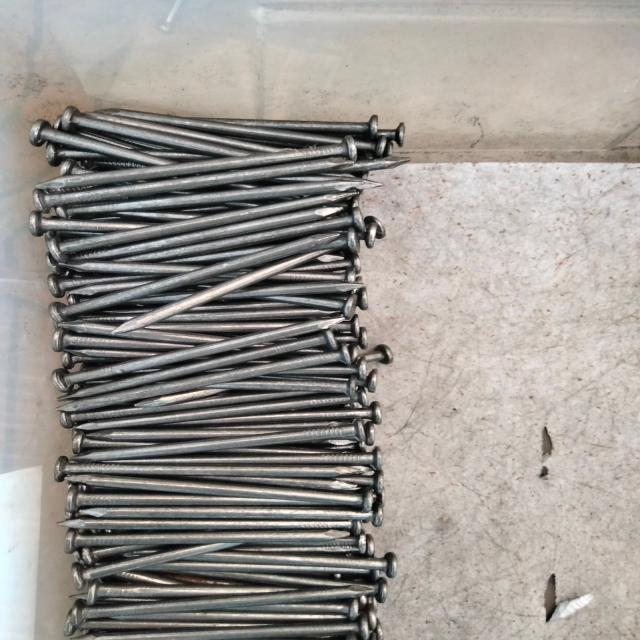3x8 nail: (19, 92, 414, 256), (39, 306, 356, 436), (62, 485, 407, 578)
